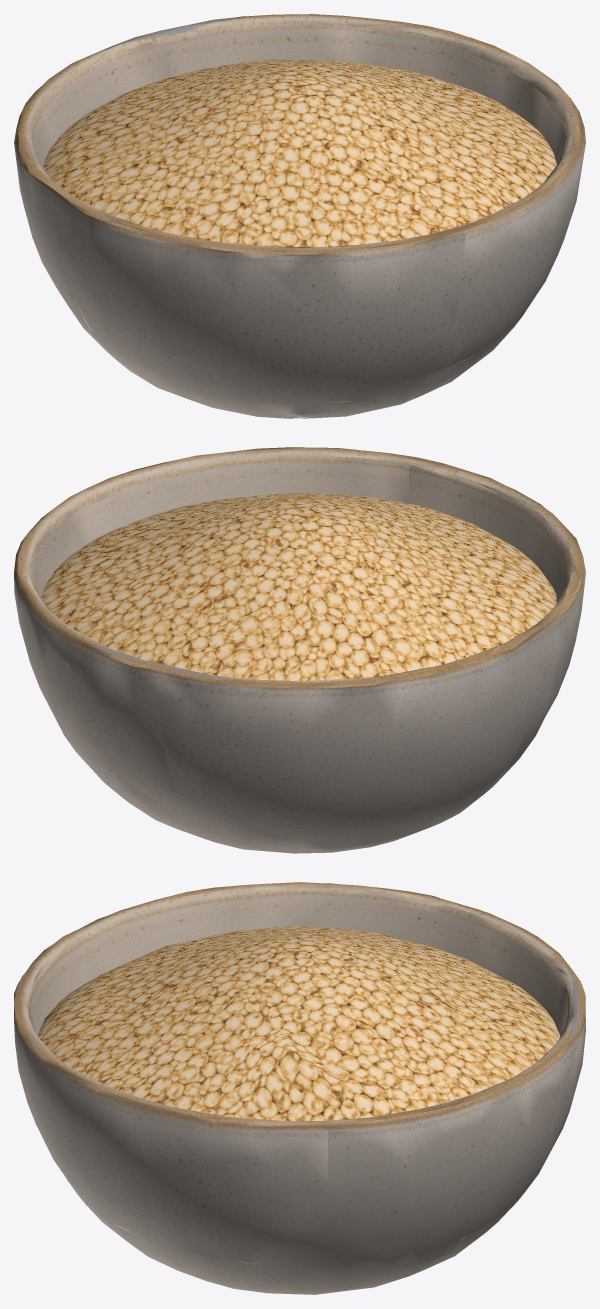
File: mdl_ra4_quinua.fbx
The picture shows the model from 3 angles, top to bottom: view 1: azimuth 30°, elevation 25°; view 2: azimuth 150°, elevation 25°; view 3: azimuth 270°, elevation 25°; orthographic projection.
Parts seen in each view (by area): view 1: SM_quinua; view 2: SM_quinua; view 3: SM_quinua.
Boxes of the visible parts, left/top/right/bottom form: SM_quinua: left=14, top=14, right=585, bottom=418; SM_quinua: left=14, top=447, right=585, bottom=853; SM_quinua: left=14, top=882, right=585, bottom=1294.
Bounding box in the file's own units: 0.1794 × 0.1 × 0.1793.
